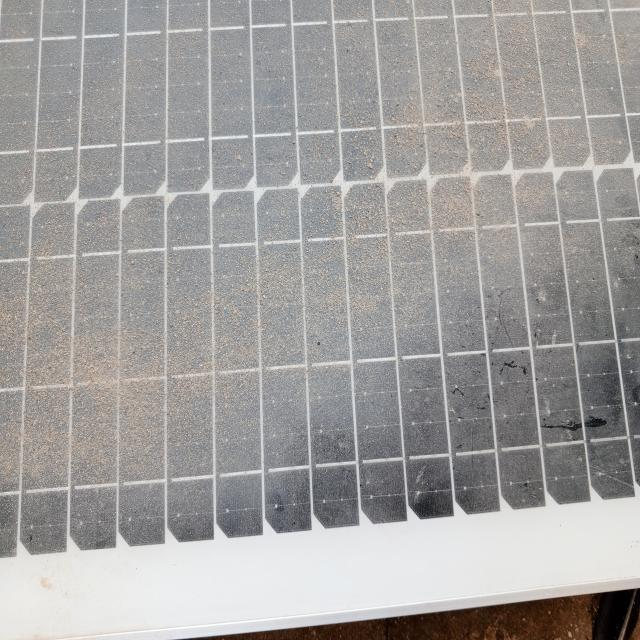Surface Contaminant: (4, 7, 639, 553)
